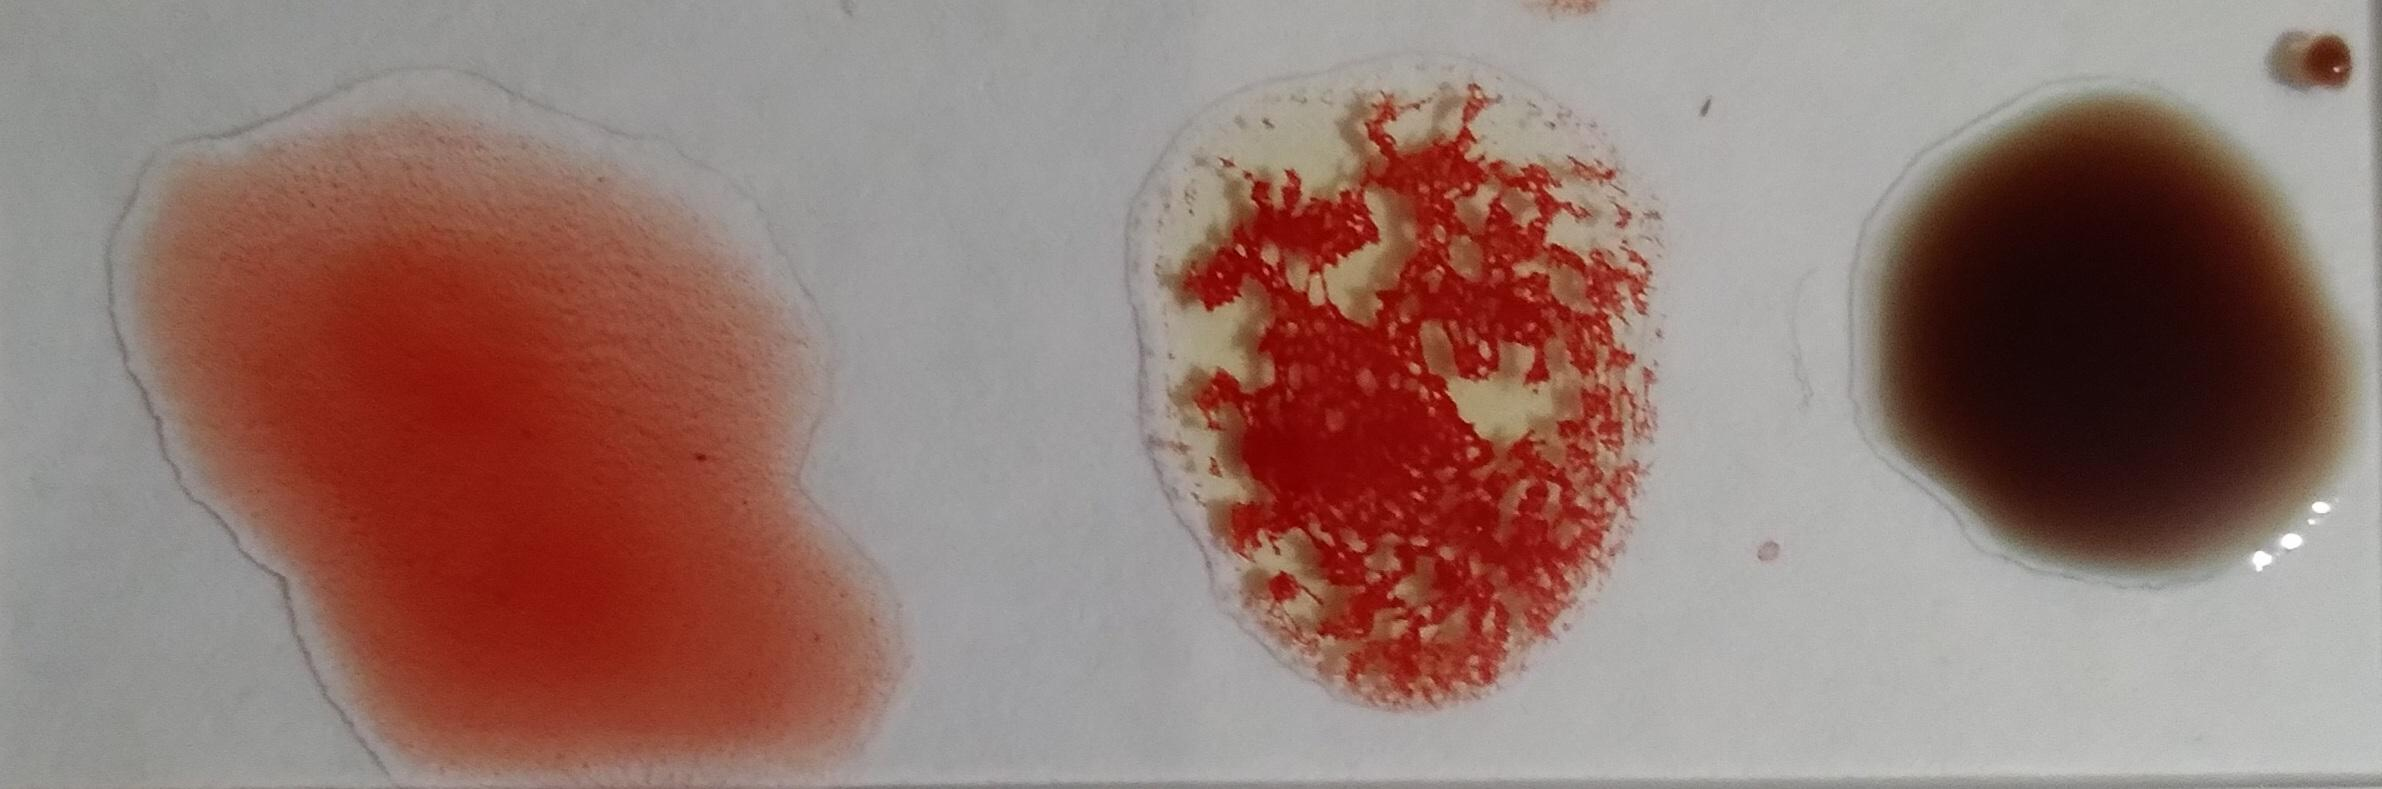B: (1138, 62, 1668, 715)
D: (163, 123, 840, 787)
